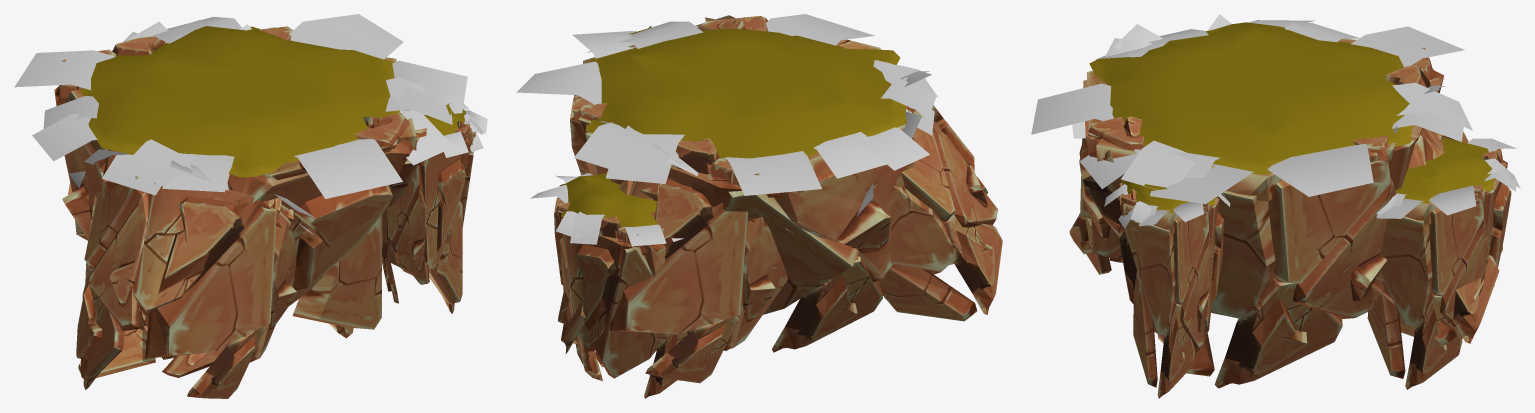
Rendered from SM_Island_type2.FBX.
The picture shows the model from 3 angles, left to right: view 1: azimuth 30°, elevation 25°; view 2: azimuth 150°, elevation 25°; view 3: azimuth 270°, elevation 25°; orthographic projection. The views are drawn at different scales.
Visible parts, largest first — view 1: Object029, Object033, Object032; view 2: Object029, Object031, Object033, Object030; view 3: Object029, Object030, Object032, Object033, Object031.
Part boxes in pixels (<box>): Object029: <box>14,14,467,338</box>; Object033: <box>68,149,314,398</box>; Object032: <box>382,103,487,313</box>; Object029: <box>516,14,937,352</box>; Object031: <box>558,120,790,383</box>; Object033: <box>856,71,1002,321</box>; Object030: <box>530,172,692,398</box>; Object029: <box>1031,20,1472,388</box>; Object030: <box>1367,137,1520,389</box>; Object032: <box>1104,179,1230,398</box>; Object033: <box>1069,14,1231,274</box>; Object031: <box>1371,85,1502,346</box>.
Size of the model in its own units: 142 by 89.93 by 145.
